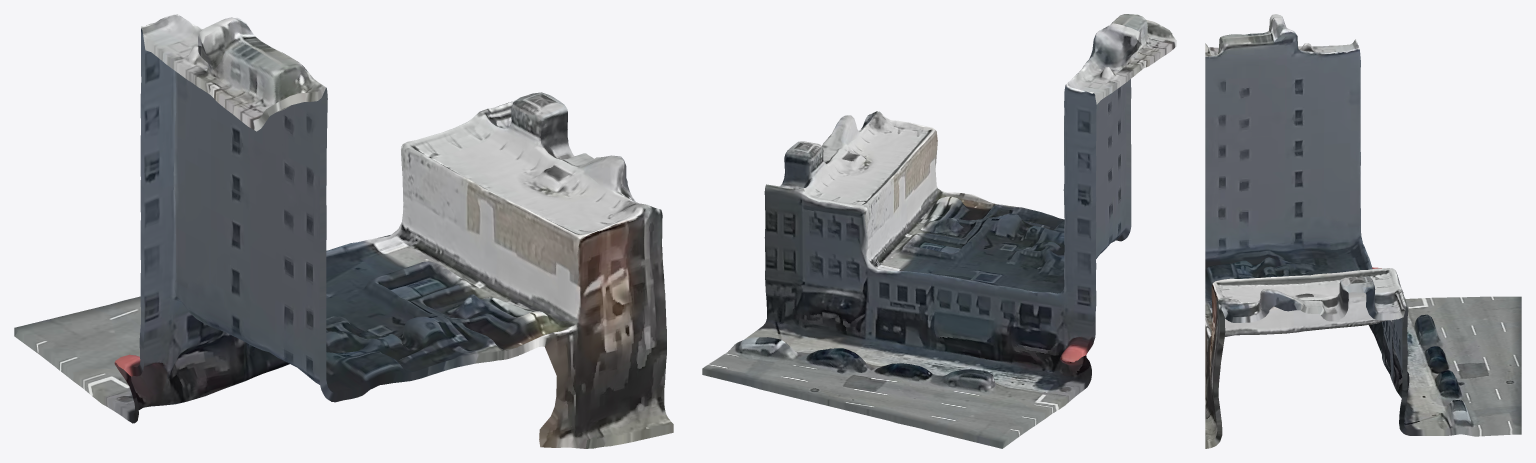
The model's file is z20-167760-405236-h0-yup-uvflip-v3-world.glb.
The picture shows the model from 3 angles, left to right: view 1: azimuth 30°, elevation 25°; view 2: azimuth 150°, elevation 25°; view 3: azimuth 270°, elevation 25°; orthographic projection. The views are drawn at different scales.
Bounding box in the file's own units: 30.16 × 32.28 × 30.32.
1 material, 1 textured.
